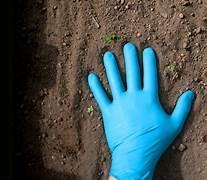Glove: (88, 43, 194, 179)
